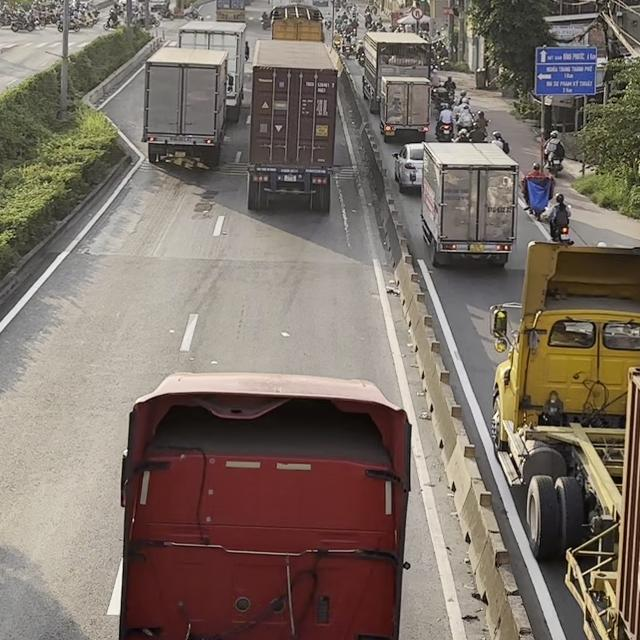car: (391, 142, 424, 191)
motorcycle: (544, 205, 574, 245), (544, 146, 564, 178), (435, 117, 453, 142)
truck: (116, 370, 412, 639), (488, 240, 640, 640), (246, 38, 340, 212), (409, 141, 519, 268), (141, 44, 233, 170), (177, 20, 250, 123), (362, 31, 432, 114), (375, 75, 431, 143), (269, 2, 325, 42)
